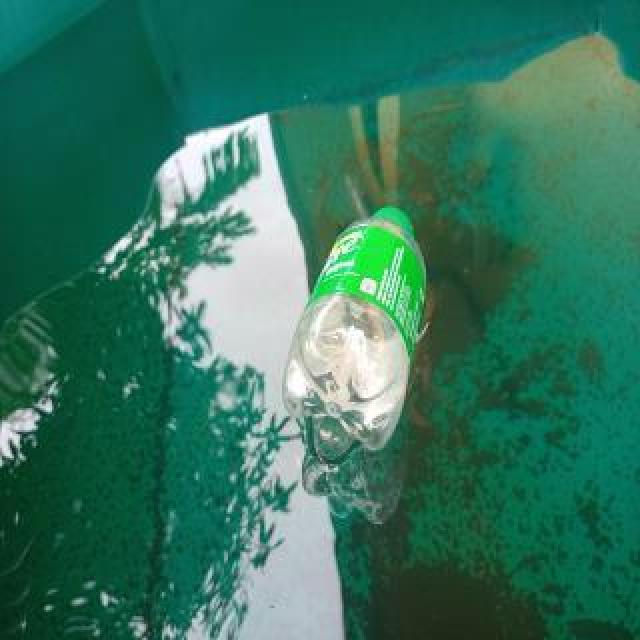bottle: (280, 202, 428, 464)
